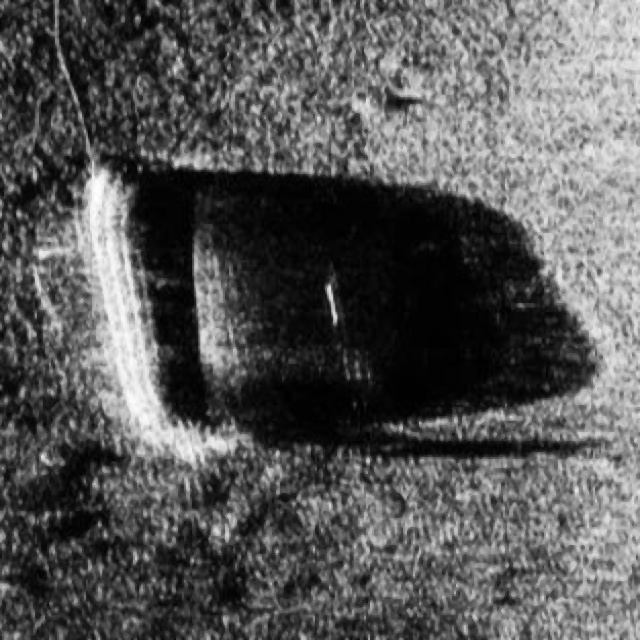Ship: (75, 150, 379, 482)
